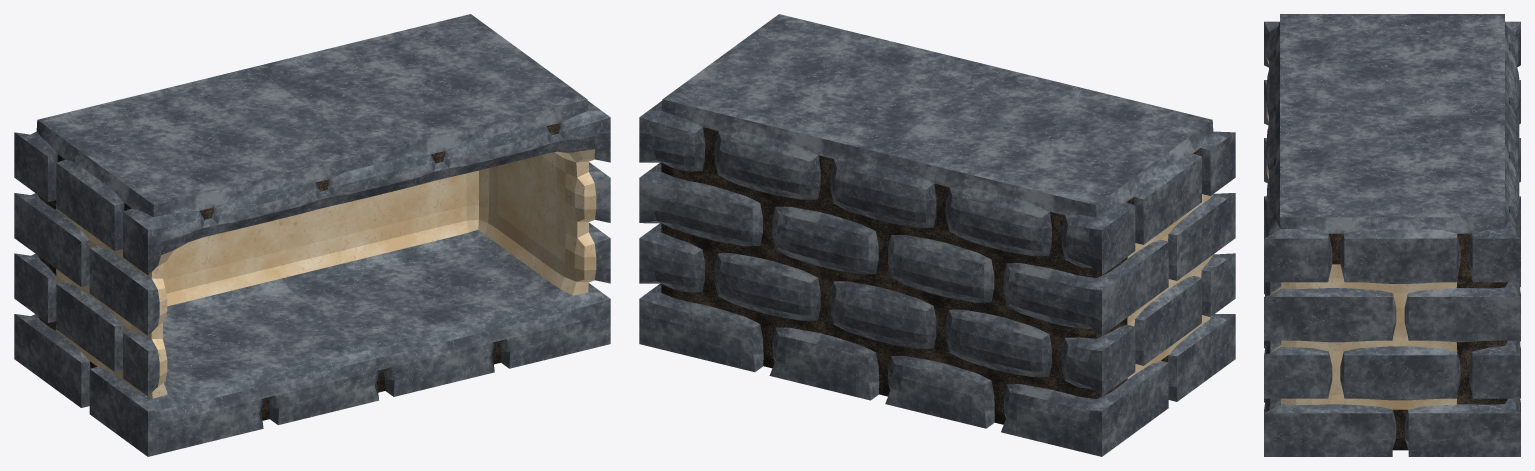
Rendered from wall_niche.glb.
The picture shows the model from 3 angles, left to right: view 1: azimuth 30°, elevation 25°; view 2: azimuth 150°, elevation 25°; view 3: azimuth 270°, elevation 25°; orthographic projection. The views are drawn at different scales.
Parts seen in each view (by area): view 1: crypt_wall_niche; view 2: crypt_wall_niche; view 3: crypt_wall_niche.
Boxes of the visible parts, x1,y1,x2,y2 form: crypt_wall_niche: (14,14,610,456); crypt_wall_niche: (639,14,1235,456); crypt_wall_niche: (1264,14,1520,456).
Bounding box in the file's own units: 2 × 1 × 1.
Materials: 1 (1 with a texture image).
